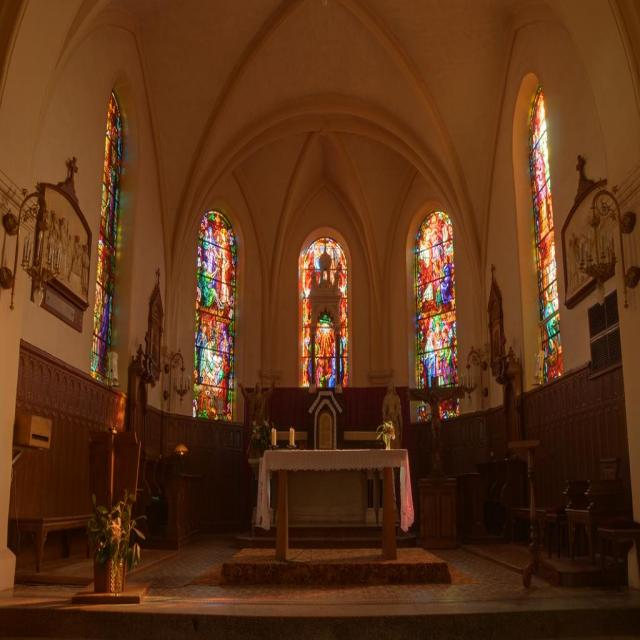Table: (249, 447, 419, 569)
